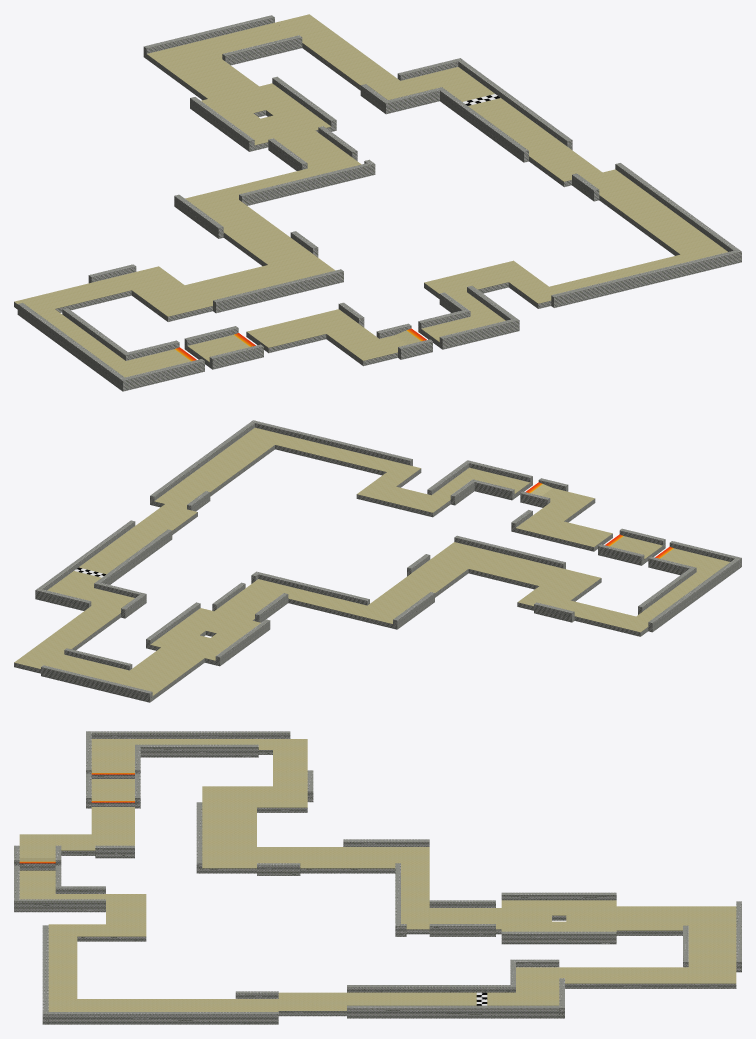
3 renders of one model, top to bottom at view 1: azimuth 30°, elevation 25°; view 2: azimuth 150°, elevation 25°; view 3: azimuth 270°, elevation 25°, orthographic. The views are drawn at different scales.
Visible parts, largest first — view 1: GK3_Koopa_Castle_4-SKP--Road, GK3_Koopa_Castle_4-SKP--Wall; view 2: GK3_Koopa_Castle_4-SKP--Road, GK3_Koopa_Castle_4-SKP--Wall; view 3: GK3_Koopa_Castle_4-SKP--Road, GK3_Koopa_Castle_4-SKP--Wall.
Part boxes in pixels (x1,y1,x2,y2): GK3_Koopa_Castle_4-SKP--Road: (14, 14, 727, 377); GK3_Koopa_Castle_4-SKP--Wall: (14, 15, 741, 391); GK3_Koopa_Castle_4-SKP--Road: (14, 427, 729, 695); GK3_Koopa_Castle_4-SKP--Wall: (14, 420, 741, 702); GK3_Koopa_Castle_4-SKP--Road: (19, 739, 736, 1011); GK3_Koopa_Castle_4-SKP--Wall: (14, 731, 741, 1024).
Bounding box in the file's own units: 62843 × 1080 × 68310.
Materials: 5 (5 with a texture image).
